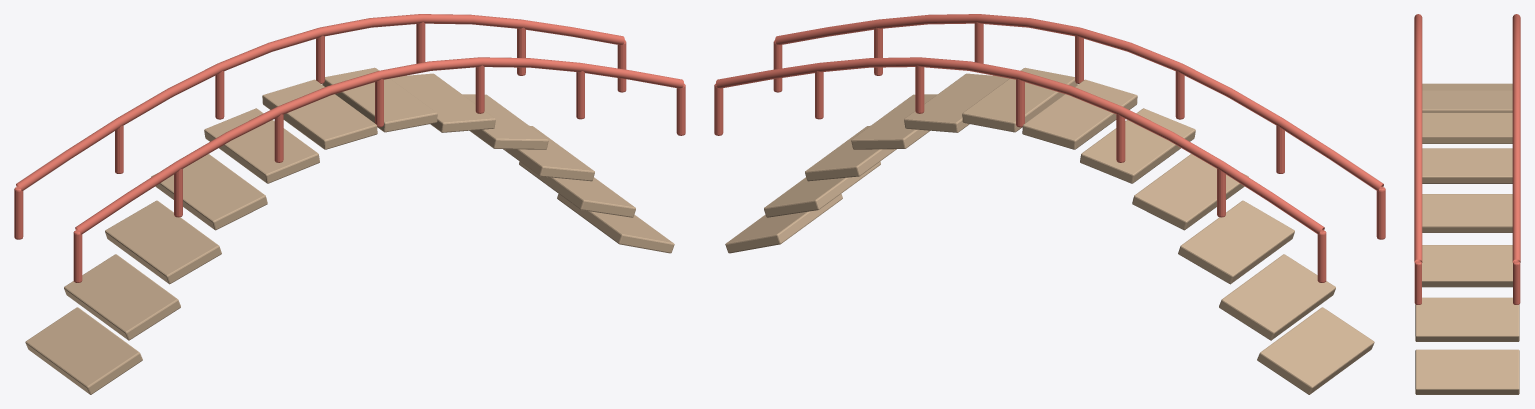
The model's file is lm_japao_bridge.glb.
3 views of the same model, side by side, from view 1: azimuth 30°, elevation 25°; view 2: azimuth 150°, elevation 25°; view 3: azimuth 270°, elevation 25° (orthographic). The views are drawn at different scales.
Visible parts, largest first — view 1: lm_japao_bridge, rail, rail.001; view 2: lm_japao_bridge, rail.001, rail; view 3: lm_japao_bridge, rail, rail.001.
Boxes of the visible parts, left/top/right/bottom form: lm_japao_bridge: left=14, top=22, right=685, bottom=394; rail: left=75, top=57, right=683, bottom=234; rail.001: left=16, top=14, right=624, bottom=190; lm_japao_bridge: left=714, top=22, right=1385, bottom=394; rail.001: left=716, top=57, right=1324, bottom=234; rail: left=775, top=14, right=1383, bottom=190; lm_japao_bridge: left=1414, top=83, right=1520, bottom=394; rail: left=1414, top=14, right=1422, bottom=262; rail.001: left=1512, top=14, right=1520, bottom=262.
Bounding box in the file's own units: 10.13 × 3.99 × 1.84.
